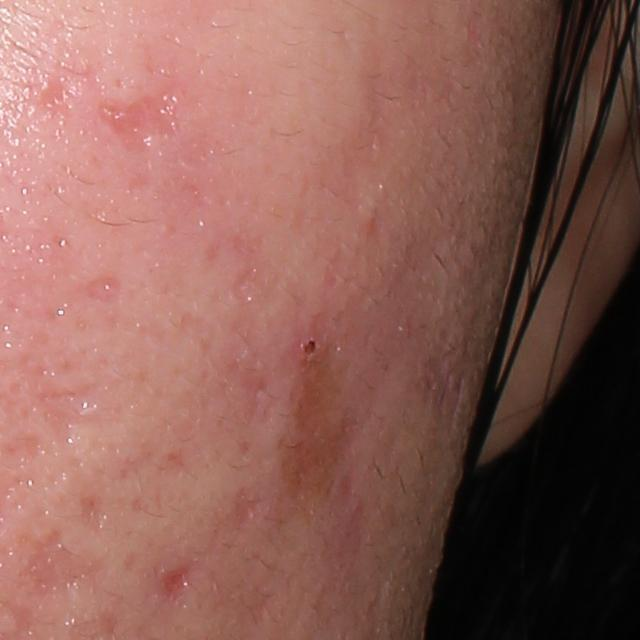atrophic_scar: (22, 68, 203, 178), (316, 45, 400, 266), (4, 523, 109, 602), (216, 331, 274, 472), (21, 355, 113, 441), (227, 264, 268, 305), (231, 483, 263, 535), (71, 271, 115, 302), (156, 568, 195, 602), (82, 492, 111, 531)
